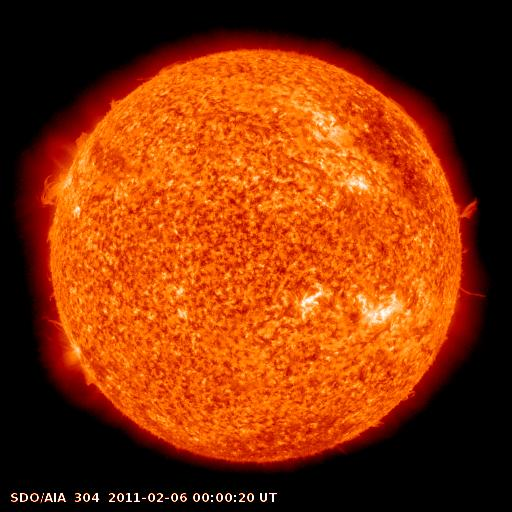prominence: (448, 188, 492, 305), (354, 381, 428, 438), (27, 170, 78, 215)
